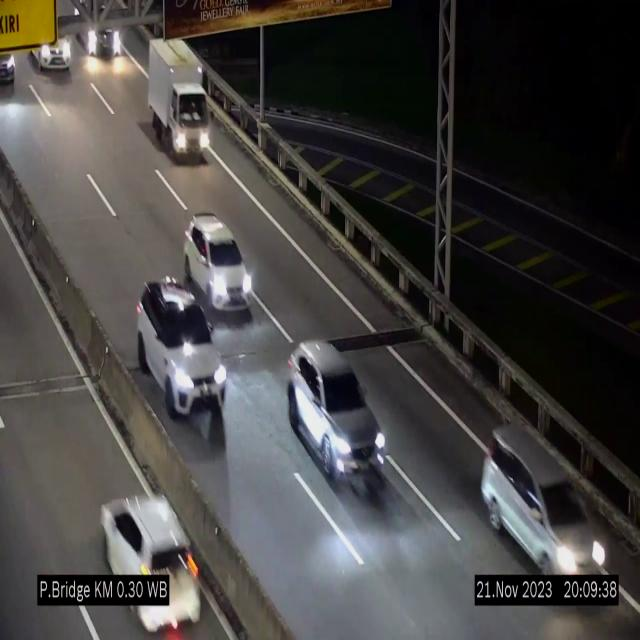Car: (480, 420, 606, 574), (96, 478, 202, 640), (287, 340, 386, 497), (136, 278, 227, 416), (183, 215, 253, 317), (73, 0, 129, 62), (29, 26, 75, 77), (0, 42, 18, 90)
Truck: (145, 30, 216, 165)
